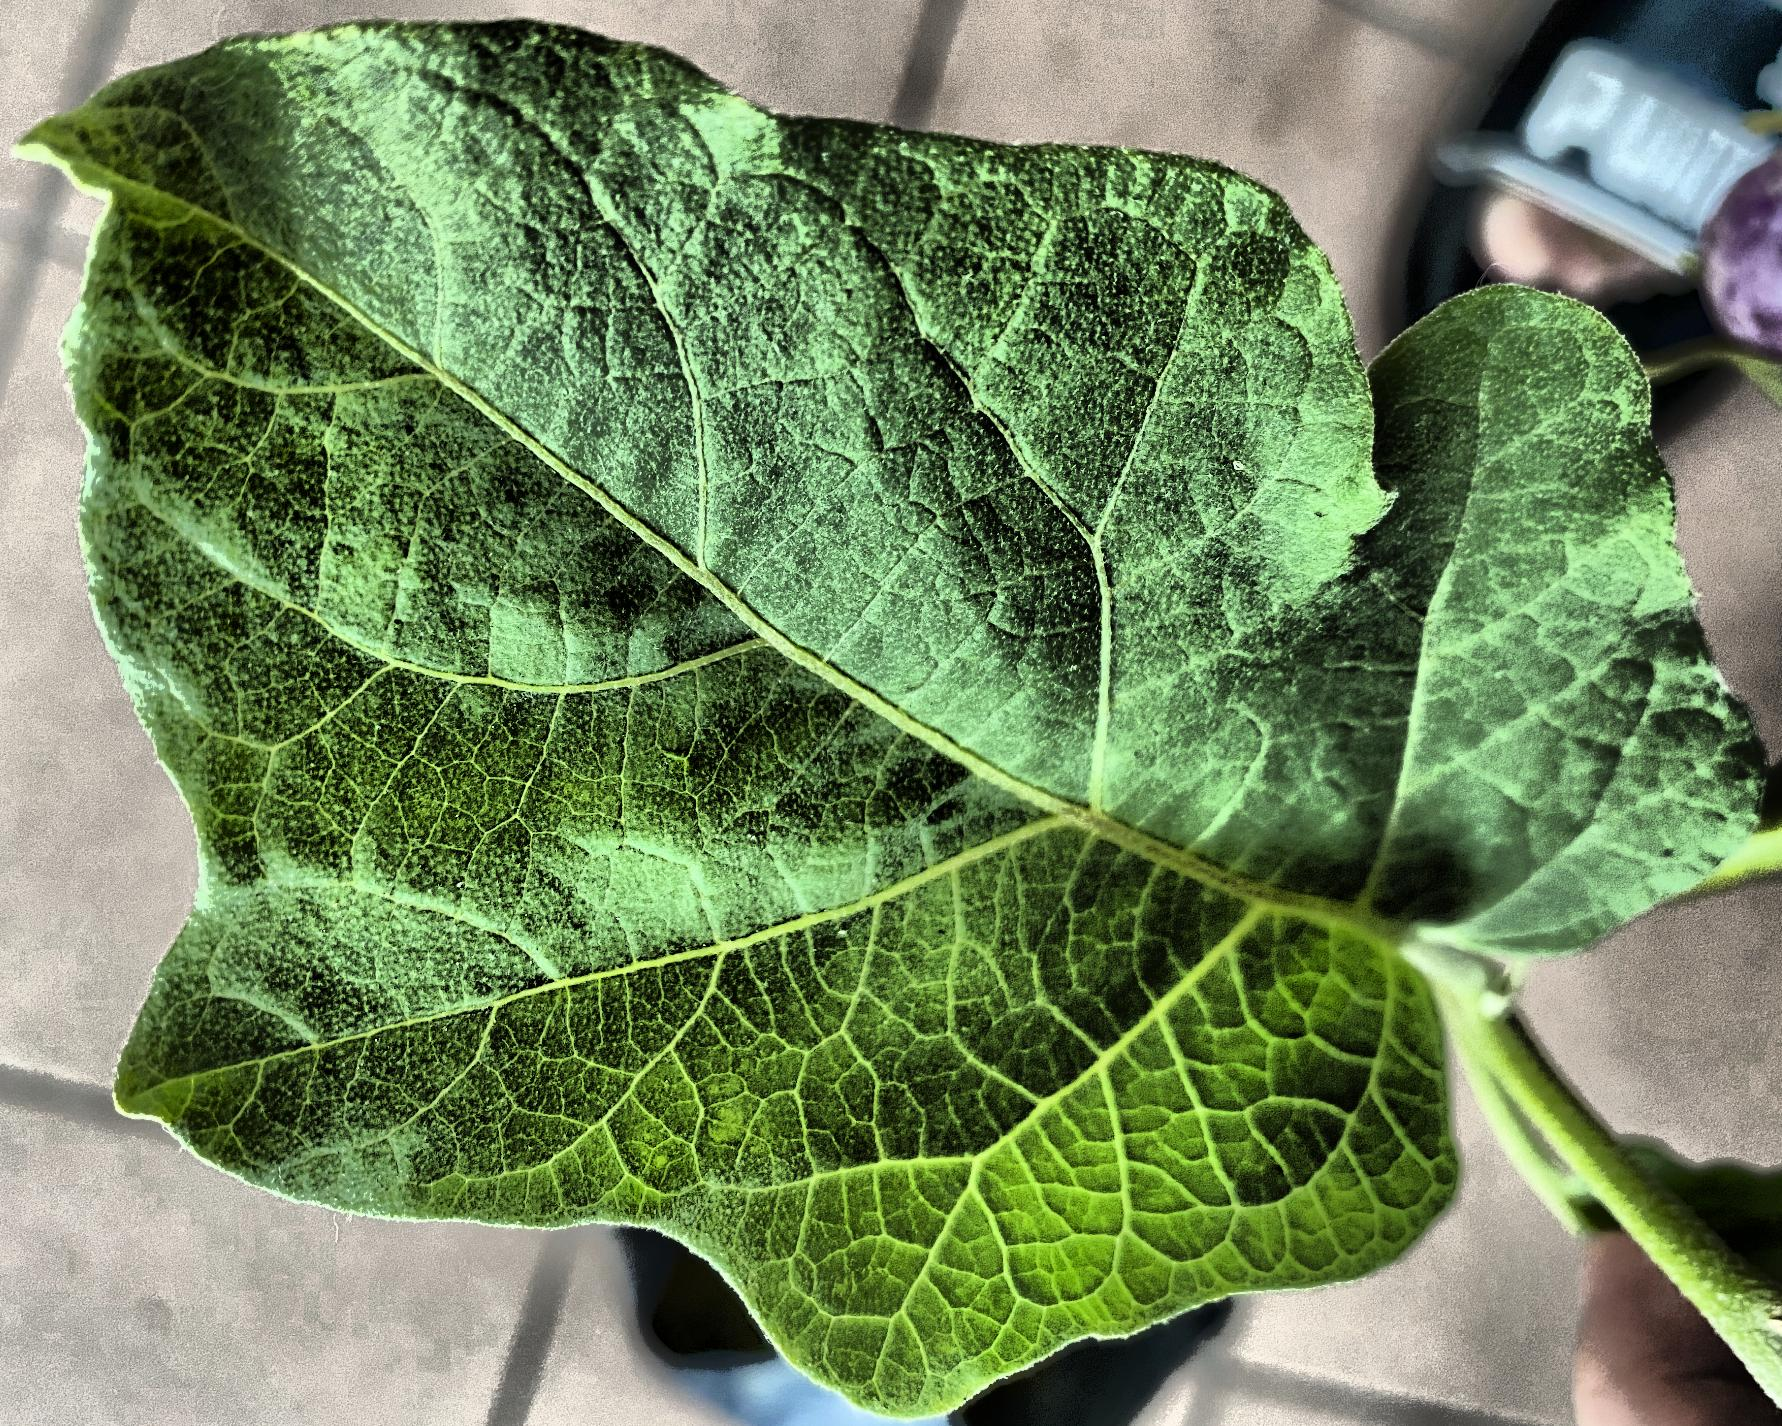HEALTHY: (1, 0, 1782, 1426)
